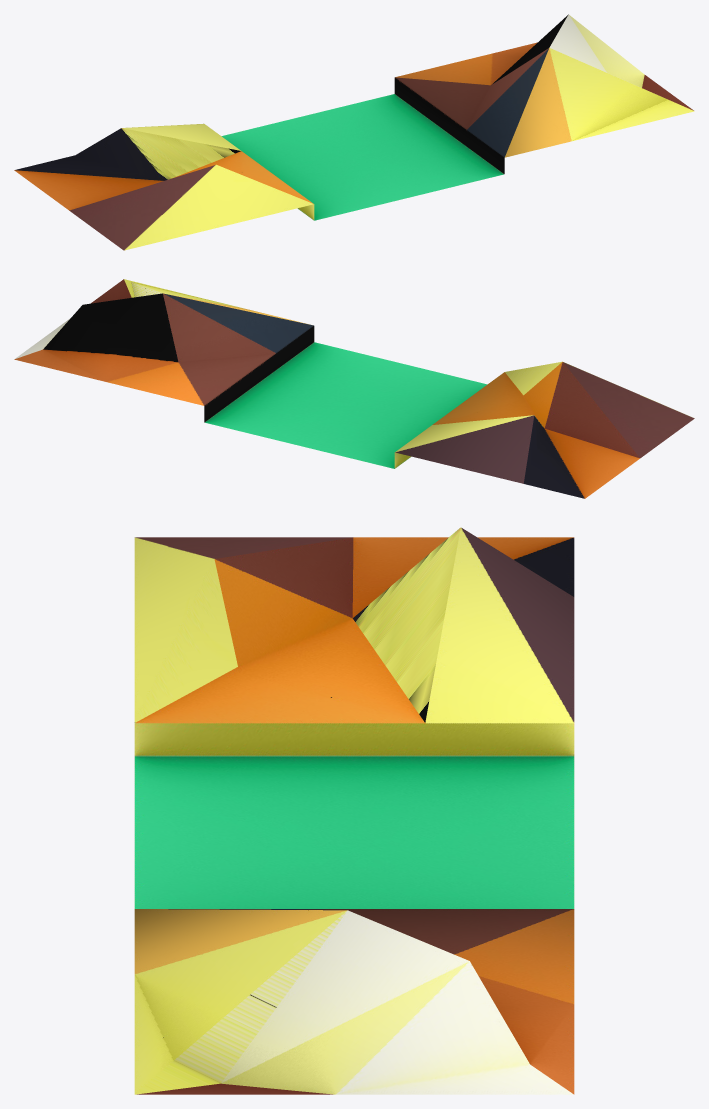
File: ground_piece.fbx
3 renders of one model, top to bottom at view 1: azimuth 30°, elevation 25°; view 2: azimuth 150°, elevation 25°; view 3: azimuth 270°, elevation 25°, orthographic. The views are drawn at different scales.
Visible parts, largest first — view 1: ground; view 2: ground; view 3: ground.
Part boxes in pixels (x1,y1,x2,y2): ground: (14,14,694,250); ground: (14,279,694,498); ground: (134,527,574,1094).
Bounding box in the file's own units: 72 × 7.68 × 24.
